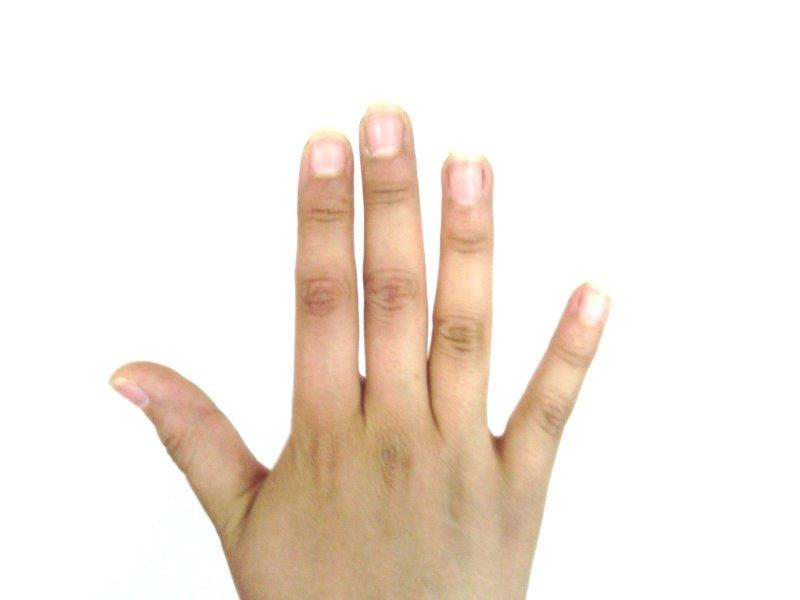hand: (111, 105, 612, 594)
